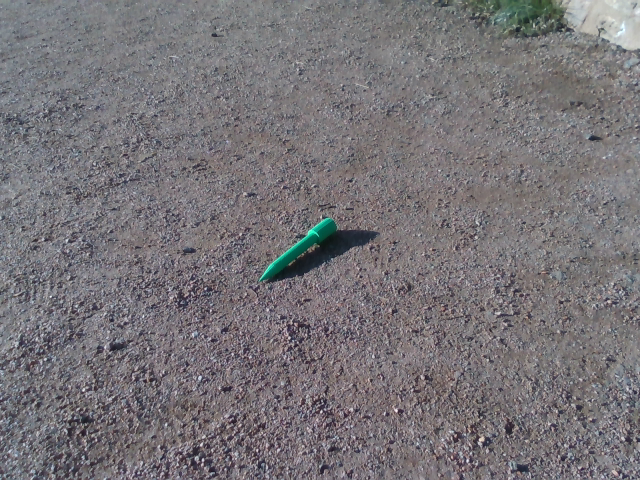Probe: (260, 214, 331, 278)
